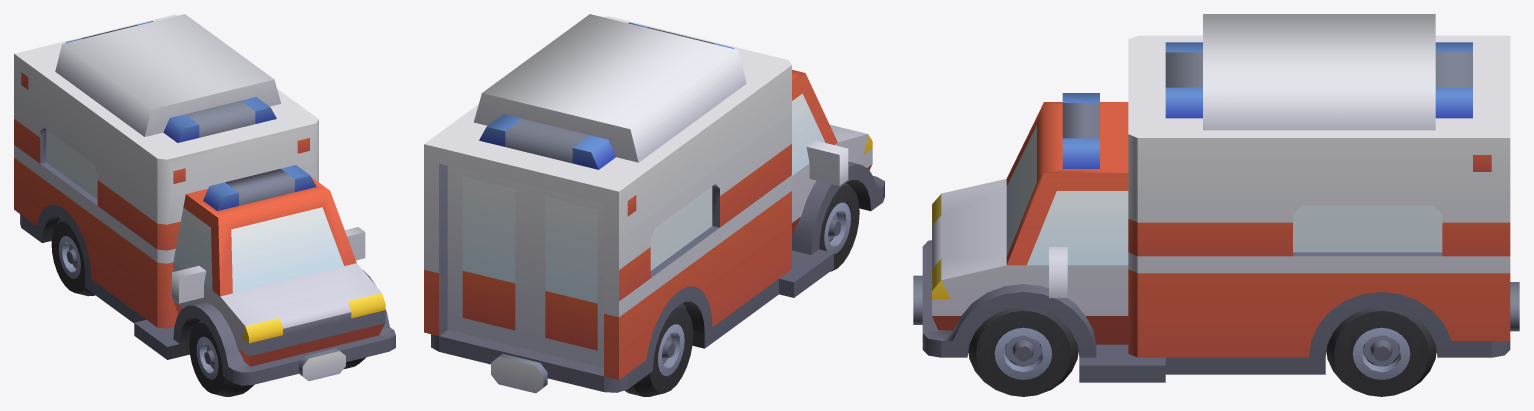
Rendered from traffic_ambulance.glb.
3 views of the same model, side by side, from view 1: azimuth 30°, elevation 25°; view 2: azimuth 150°, elevation 25°; view 3: azimuth 270°, elevation 25° (orthographic). The views are drawn at different scales.
Visible parts, largest first — view 1: body; view 2: body; view 3: body.
Boxes of the visible parts, <box> form: body: <box>14,14,395,396</box>; body: <box>424,14,884,396</box>; body: <box>913,14,1519,396</box>.
Size of the model in its own units: 1.5 by 1.8 by 3.25.
Materials: 1 (1 with a texture image).
